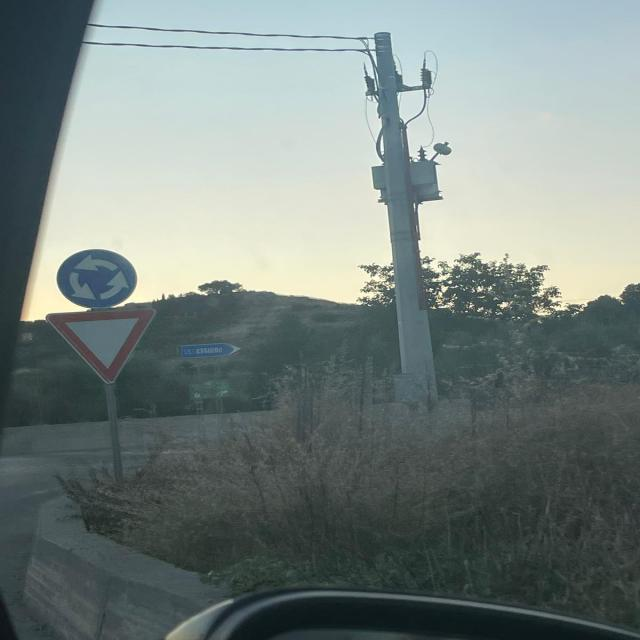prio_give_way: (46, 307, 158, 385)
